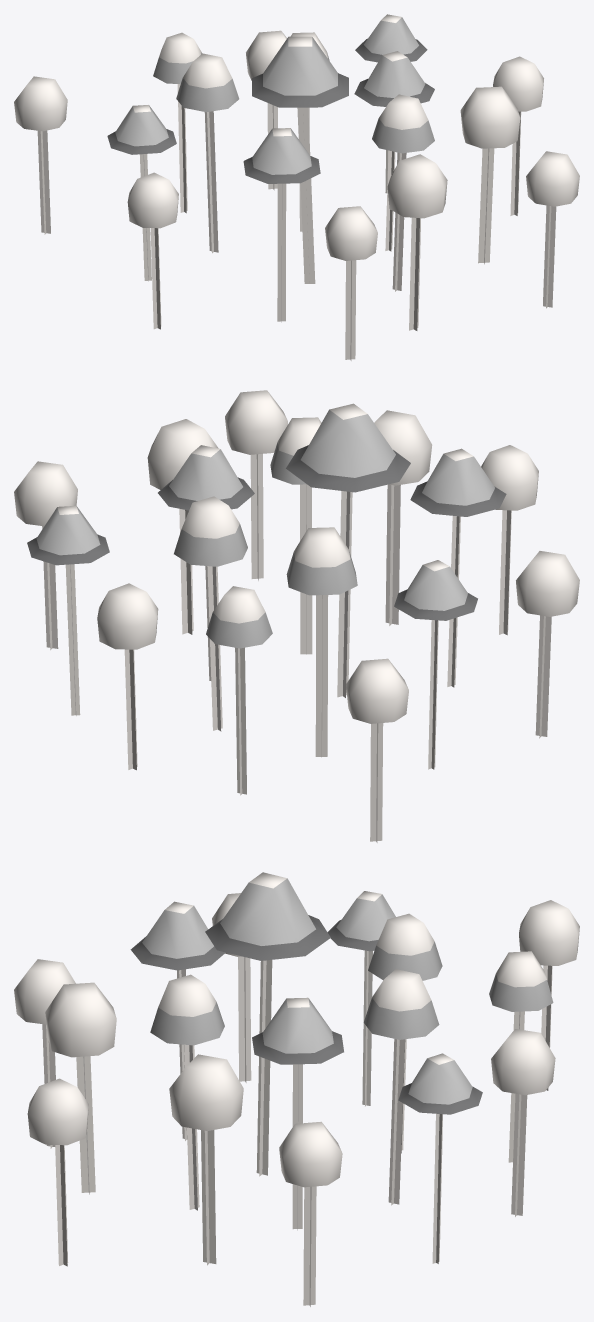
Rendered from White_Mushrooms_Cluster_2.fbx.
3 renders of one model, top to bottom at view 1: azimuth 30°, elevation 25°; view 2: azimuth 150°, elevation 25°; view 3: azimuth 270°, elevation 25°, orthographic. The views are drawn at different scales.
Visible parts, largest first — view 1: White_Mushrooms_Cluster_2; view 2: White_Mushrooms_Cluster_2; view 3: White_Mushrooms_Cluster_2.
Boxes of the visible parts, box(x1,y1,x2,y2) form: White_Mushrooms_Cluster_2: box(14, 14, 579, 360); White_Mushrooms_Cluster_2: box(14, 390, 579, 842); White_Mushrooms_Cluster_2: box(14, 872, 579, 1306).
Size of the model in its own units: 40.65 by 21.43 by 37.93.
Materials: 1 (1 with a texture image).
